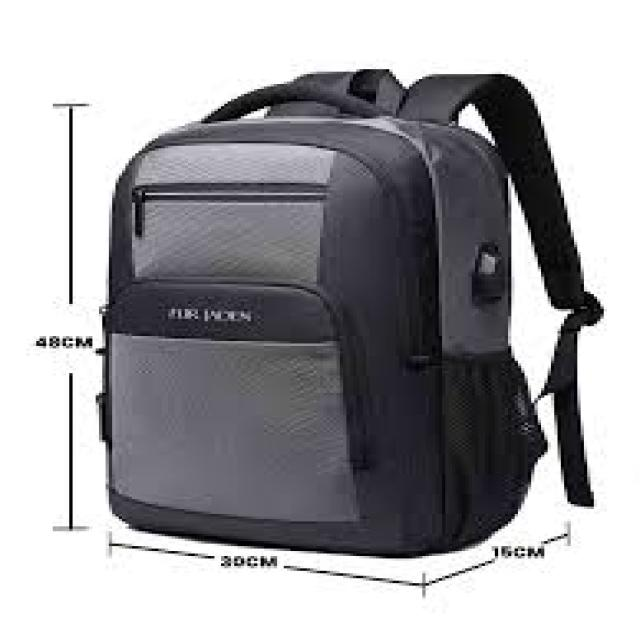backpack: (93, 68, 605, 557)
